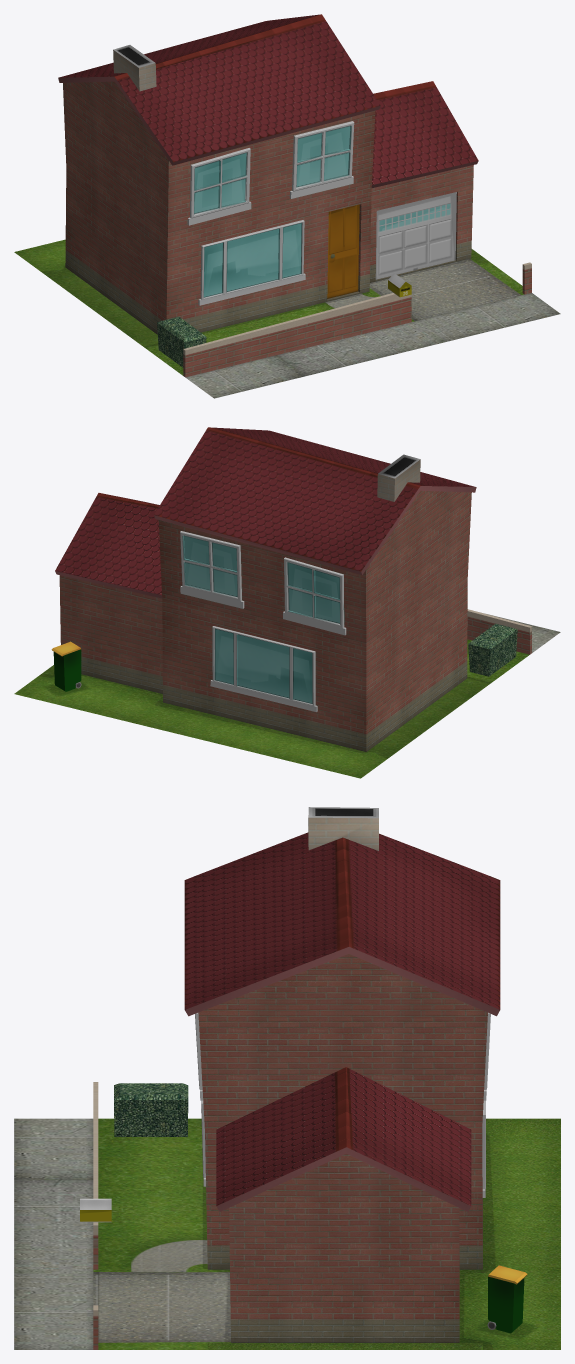
Rendered from Suburban Home B.fbx.
The picture shows the model from 3 angles, top to bottom: view 1: azimuth 30°, elevation 25°; view 2: azimuth 150°, elevation 25°; view 3: azimuth 270°, elevation 25°; orthographic projection. The views are drawn at different scales.
Parts seen in each view (by area): view 1: surbuban home 02; view 2: surbuban home 02; view 3: surbuban home 02.
Part boxes in pixels (x1=…): surbuban home 02: x1=14, y1=14, x2=560, y2=398; surbuban home 02: x1=14, y1=427, x2=560, y2=778; surbuban home 02: x1=14, y1=807, x2=560, y2=1349.
Bounding box in the file's own units: 10 × 6.74 × 10.
1 material, 1 textured.
